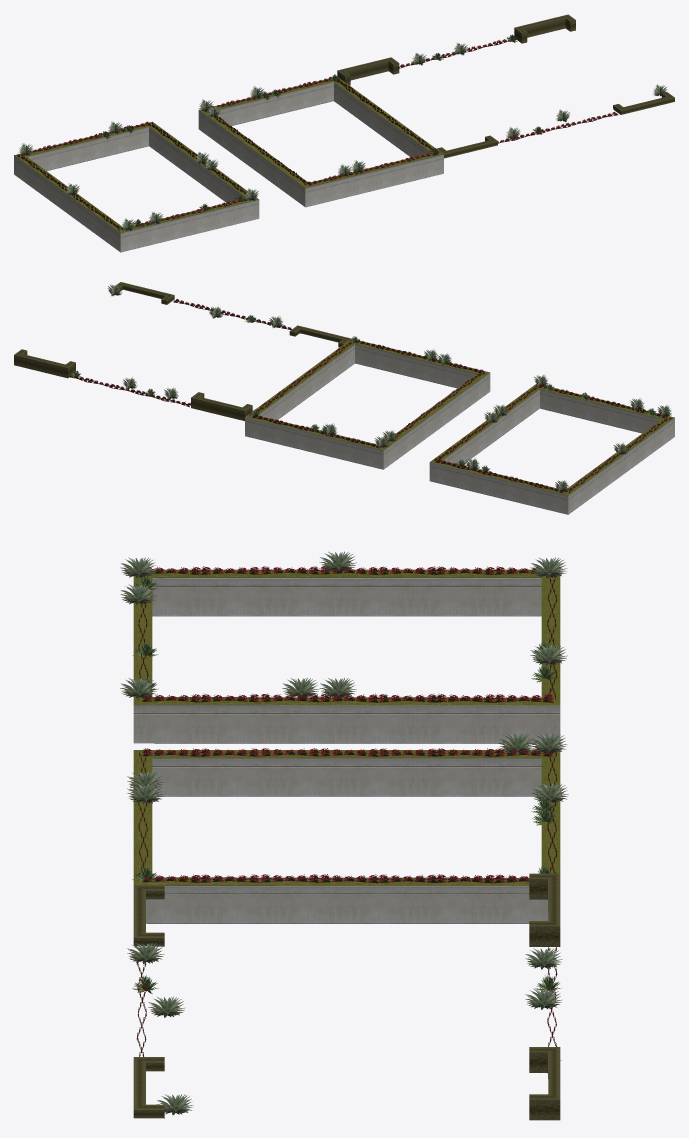
Rendered from airplants_las.obj.
3 renders of one model, top to bottom at view 1: azimuth 30°, elevation 25°; view 2: azimuth 150°, elevation 25°; view 3: azimuth 270°, elevation 25°, orthographic. The views are drawn at different scales.
Parts seen in each view (by area): view 1: airplants_LAS; view 2: airplants_LAS; view 3: airplants_LAS.
Part boxes in pixels (x1=…): airplants_LAS: x1=14, y1=14, x2=674, y2=252; airplants_LAS: x1=14, y1=282, x2=674, y2=514; airplants_LAS: x1=120, y1=551, x2=568, y2=1120.
Bounding box in the file's own units: 138 × 7.21 × 47.94.
